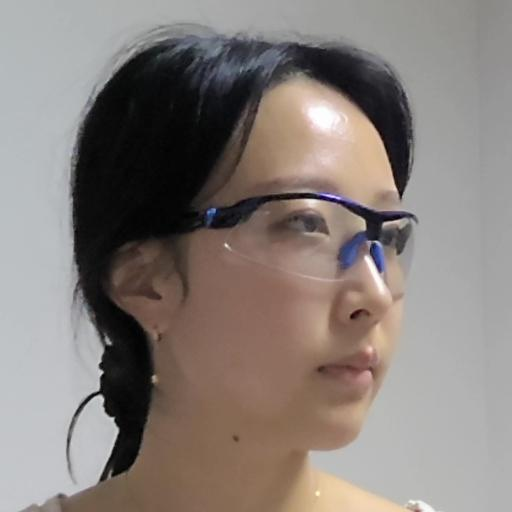glasses: (58, 18, 430, 458)
